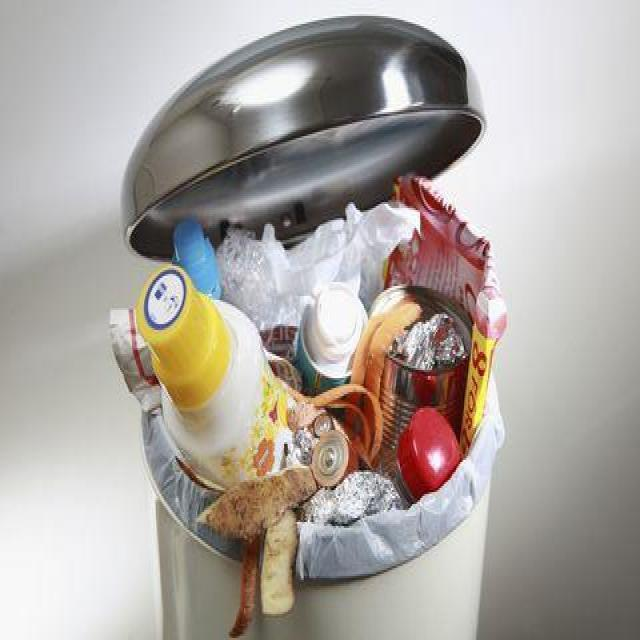Garbage: (110, 178, 506, 636)
Metal: (299, 471, 402, 526), (311, 431, 349, 488)
Plastic_Bag: (216, 202, 419, 333)
Plastic_Container: (136, 266, 291, 488), (296, 287, 366, 395), (399, 407, 461, 500), (174, 219, 220, 297)
tin_box: (371, 287, 471, 473)
